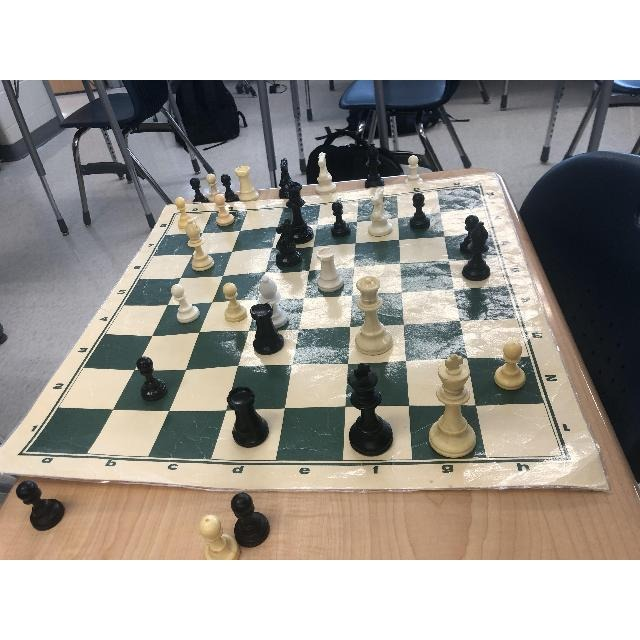black-bishop: (462, 222, 490, 281)
black-king: (349, 363, 393, 455)
black-knight: (276, 218, 303, 267)
black-pawn: (138, 356, 168, 400), (460, 214, 481, 251), (410, 193, 430, 231), (332, 202, 352, 238)
black-queen: (284, 181, 313, 244)
black-rook: (226, 386, 269, 447), (250, 303, 285, 355), (250, 303, 283, 354)
white-bishop: (258, 275, 288, 329), (185, 219, 214, 271)
white-king: (429, 353, 476, 457)
white-knight: (368, 188, 393, 236)
white-pawn: (494, 341, 526, 390), (172, 283, 200, 324), (222, 282, 246, 322), (215, 194, 235, 226), (174, 197, 193, 229)
white-queen: (356, 276, 392, 356)
white-rook: (316, 246, 343, 291)
